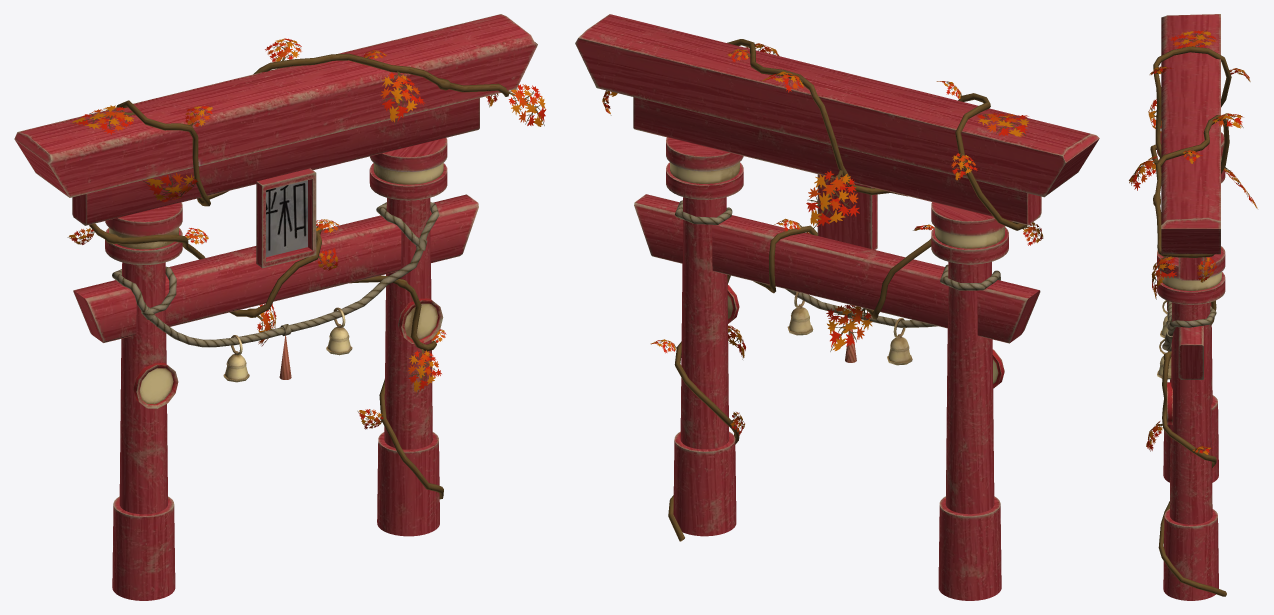
Rendered from japanese_torii_gate.glb.
3 views of the same model, side by side, from view 1: azimuth 30°, elevation 25°; view 2: azimuth 150°, elevation 25°; view 3: azimuth 270°, elevation 25° (orthographic). The views are drawn at different scales.
Parts seen in each view (by area): view 1: Torri_Gate_Torri gate_0, Torri_Gate_Rope&Gold_0, Leaves_Leaves_0; view 2: Torri_Gate_Torri gate_0, Leaves_Leaves_0, Torri_Gate_Rope&Gold_0; view 3: Torri_Gate_Torri gate_0, Leaves_Leaves_0, Torri_Gate_Rope&Gold_0.
Boxes of the visible parts, bbox=[...] form: Torri_Gate_Torri gate_0: bbox=[14, 14, 537, 600]; Torri_Gate_Rope&Gold_0: bbox=[112, 202, 443, 408]; Leaves_Leaves_0: bbox=[67, 38, 546, 429]; Torri_Gate_Torri gate_0: bbox=[575, 14, 1099, 600]; Leaves_Leaves_0: bbox=[602, 43, 1043, 435]; Torri_Gate_Rope&Gold_0: bbox=[675, 200, 1004, 388]; Torri_Gate_Torri gate_0: bbox=[1150, 14, 1231, 600]; Leaves_Leaves_0: bbox=[1129, 30, 1257, 454]; Torri_Gate_Rope&Gold_0: bbox=[1157, 300, 1216, 424].
Size of the model in its own units: 13.51 by 12.77 by 3.5.
3 materials, 3 textured.
